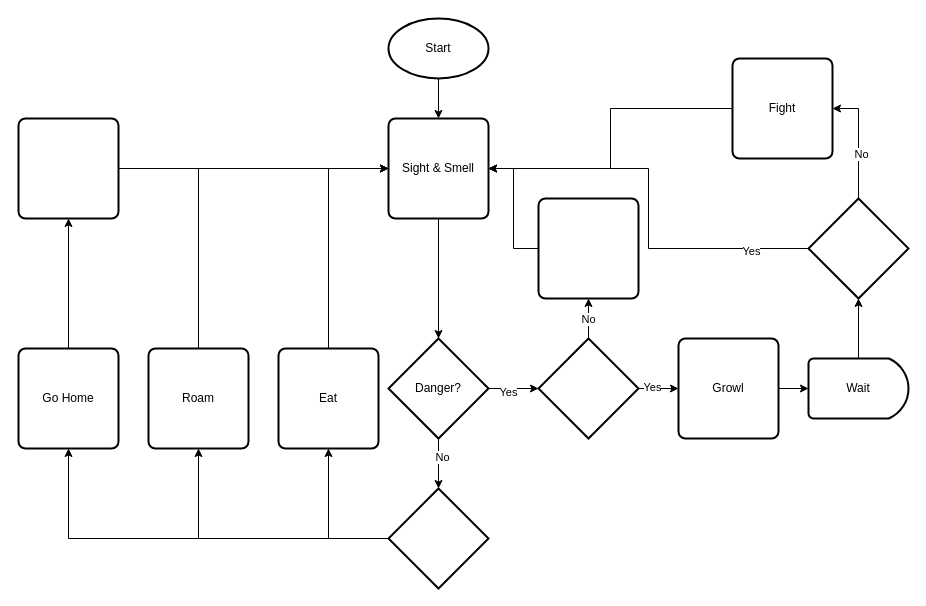
This 926x606 diagram has some shape labels left out. The shapes that lost their labels are listed below. From the top down, each one's centre as x and y in pixels, then its label:
At (68,168): "Sleep".
At (588,248): "Run Away".
At (858,248): "Has Run Away?".
At (588,388): "Can win fight?".
At (438,538): "Select Action".
